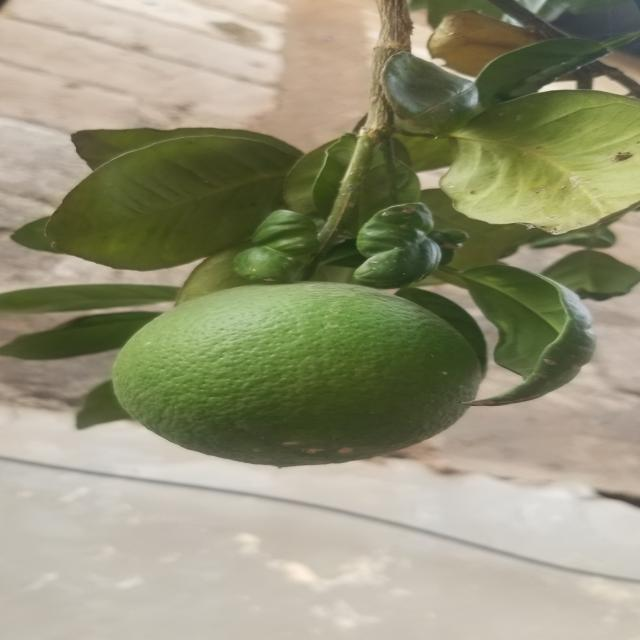Unripe: (108, 278, 493, 489)
